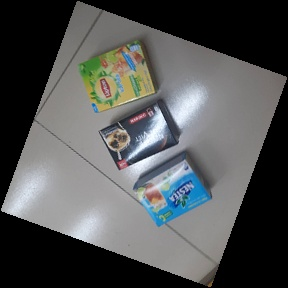CF Viet: (98, 99, 182, 171)
LipTon: (77, 38, 160, 112)
Nestea: (132, 152, 212, 228)
